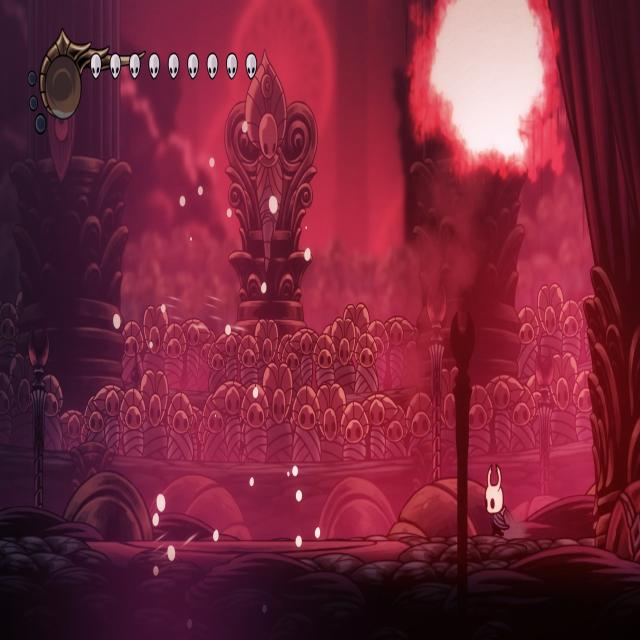Fireball: (405, 0, 563, 182)
Player: (483, 459, 512, 542)
